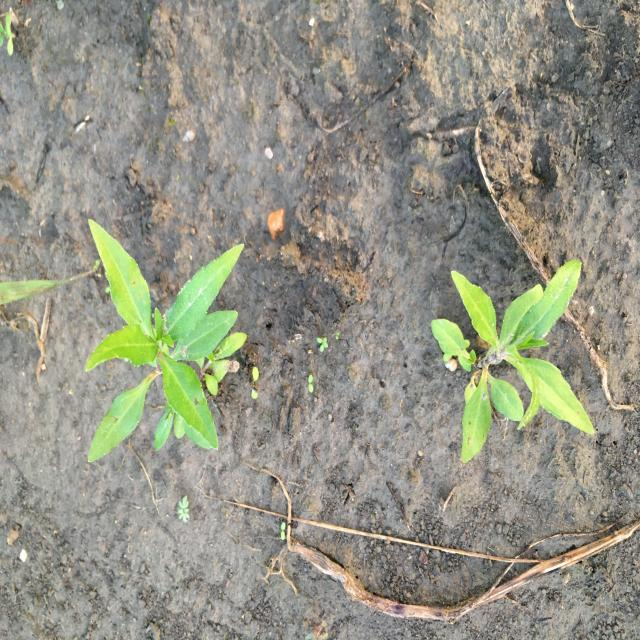Eclipta: (84, 218, 249, 464), (429, 257, 597, 466)
